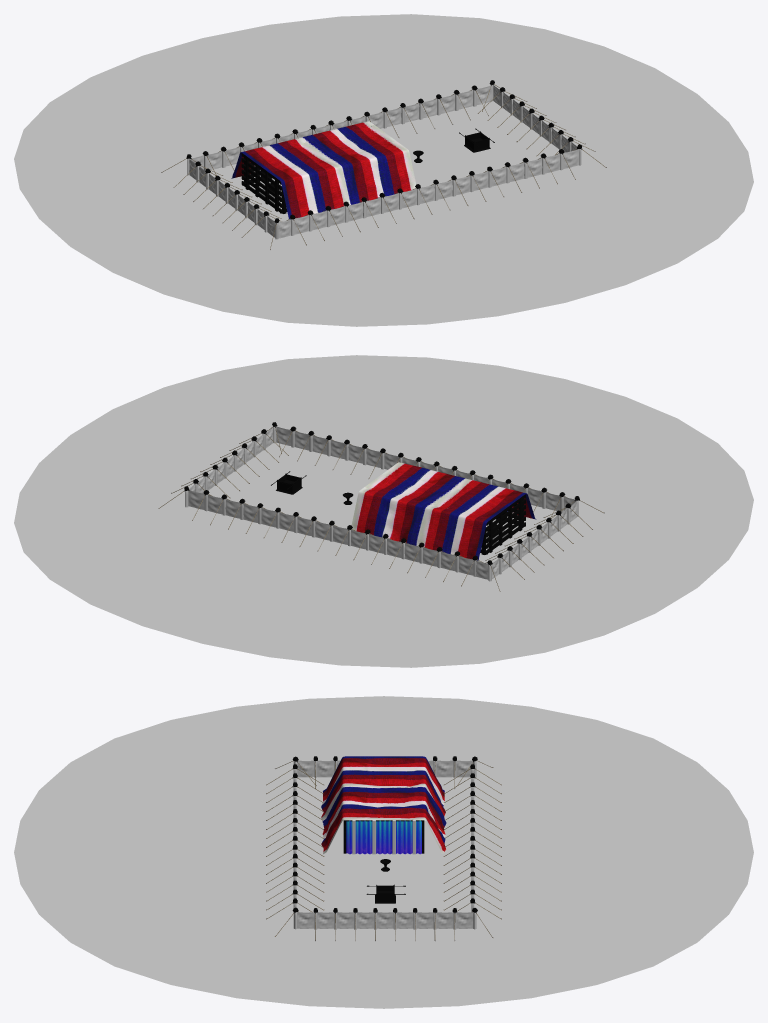
Rendered from TABERNACULO.fbx.
3 renders of one model, top to bottom at view 1: azimuth 30°, elevation 25°; view 2: azimuth 150°, elevation 25°; view 3: azimuth 270°, elevation 25°, orthographic. The views are drawn at different scales.
Visible parts, largest first — view 1: Plane, TELA_TECHO, tela, madera, cuerdas, plata_ganchos, rejas_oro; view 2: Plane, TELA_TECHO, tela, madera, cuerdas, plata_ganchos, rejas_oro; view 3: Plane, TELA_TECHO, tela, cuerdas, cortina_entrada, madera, plata_ganchos, madera (2).
Part boxes in pixels (x1,y1,x2,y2): Plane: [14, 14, 753, 326]; TELA_TECHO: [231, 121, 416, 219]; tela: [188, 85, 578, 238]; madera: [187, 84, 581, 239]; cuerdas: [161, 84, 606, 249]; plata_ganchos: [161, 80, 606, 240]; rejas_oro: [241, 153, 287, 213]; Plane: [14, 355, 753, 667]; TELA_TECHO: [351, 462, 536, 560]; tela: [188, 426, 577, 580]; madera: [185, 426, 578, 581]; cuerdas: [159, 427, 603, 591]; plata_ganchos: [171, 422, 604, 581]; rejas_oro: [480, 494, 525, 554]; Plane: [14, 696, 753, 1008]; TELA_TECHO: [321, 756, 446, 854]; tela: [294, 760, 474, 928]; cuerdas: [266, 760, 501, 940]; cortina_entrada: [346, 820, 421, 854]; madera: [293, 761, 476, 929]; plata_ganchos: [266, 756, 501, 940]; madera (2): [352, 820, 415, 854].
Bounding box in the file's own units: 9327 × 550 × 9327.
